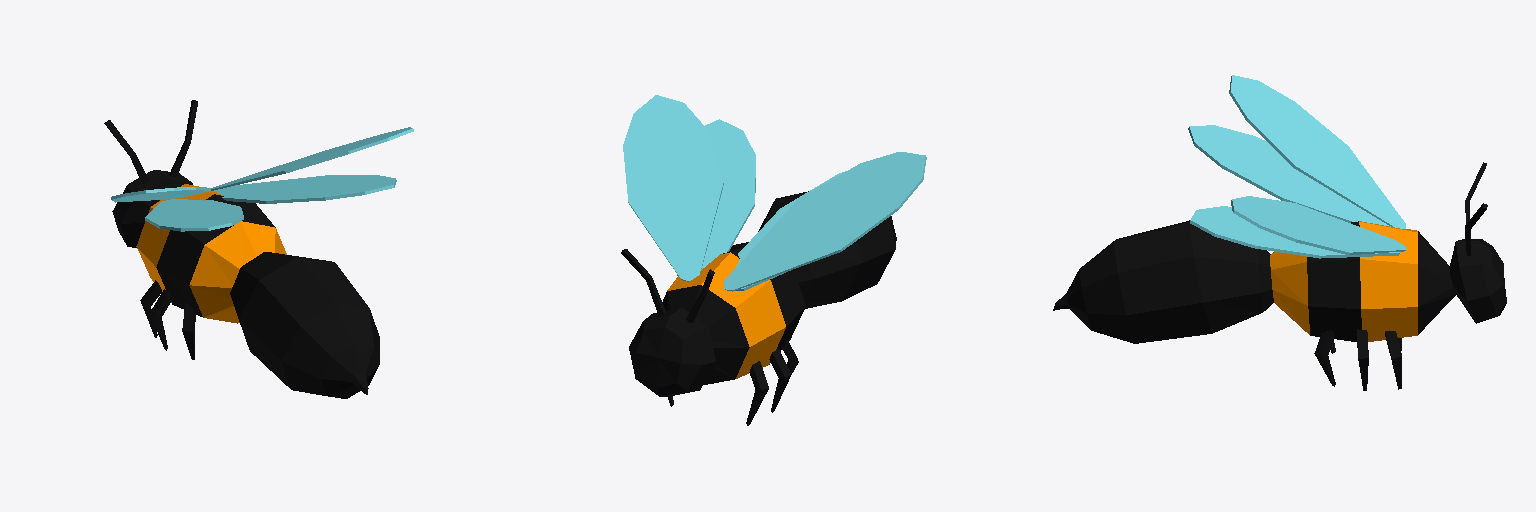
The model's file is Bee_01.obj.
3 views of the same model, side by side, from view 1: azimuth 30°, elevation 25°; view 2: azimuth 150°, elevation 25°; view 3: azimuth 270°, elevation 25° (orthographic).
Parts seen in each view (by area): view 1: Bee_Circle; view 2: Bee_Circle; view 3: Bee_Circle.
Part boxes in pixels (bbox=[...]): Bee_Circle: bbox=[104, 100, 413, 398]; Bee_Circle: bbox=[621, 95, 926, 425]; Bee_Circle: bbox=[1053, 75, 1506, 390].
Size of the model in its own units: 8.24 by 6.32 by 11.24.